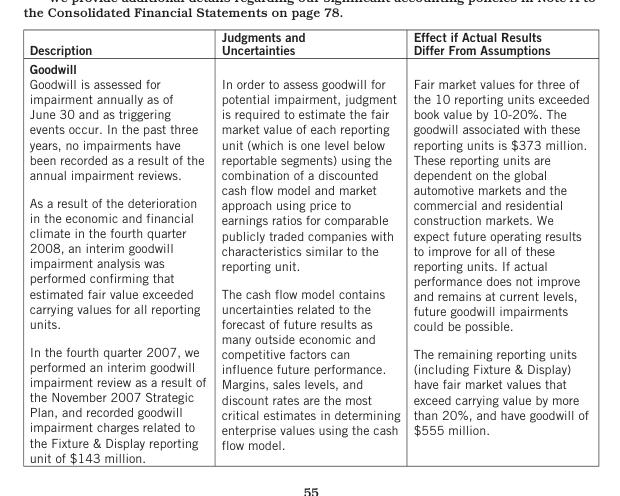table: (28, 28, 588, 464)
table column: (213, 28, 406, 464), (28, 28, 213, 464), (406, 28, 588, 464)
table column header: (28, 28, 588, 58)
table projected row header: (28, 58, 588, 75)
table row: (28, 75, 588, 464), (28, 28, 588, 58), (28, 58, 588, 75)
